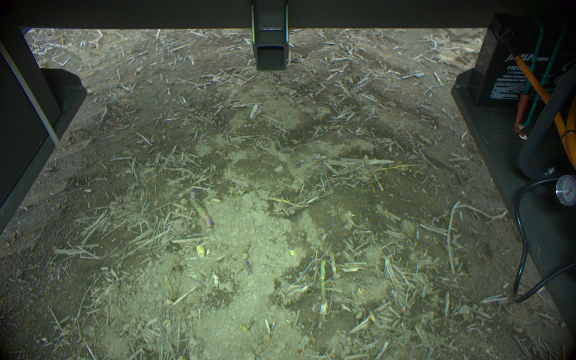aspa: (189, 189, 216, 229), (317, 259, 331, 309)
